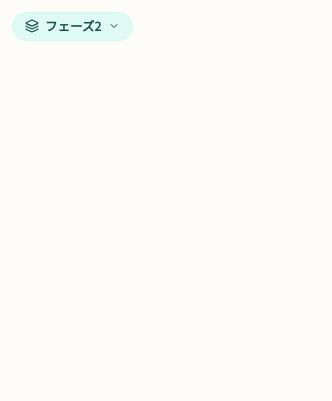
Test case: PhaseSwitcher (GAP-157) › 「確定して次フェーズへ」は明示承認 → freeze API → 現在フェーズ表示へ戻す
Click the button with aria-label "フェーズ切替".
click(72, 26)  # box [12, 12, 133, 41]
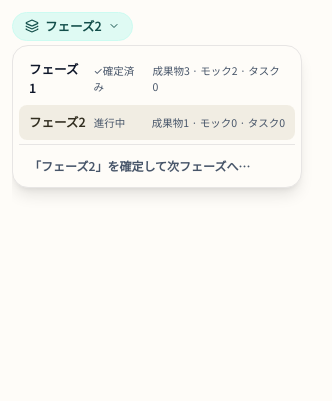
Click the button "「フェーズ2」を確定して次フェーズへ…".
click(157, 166)  # box [19, 151, 295, 181]
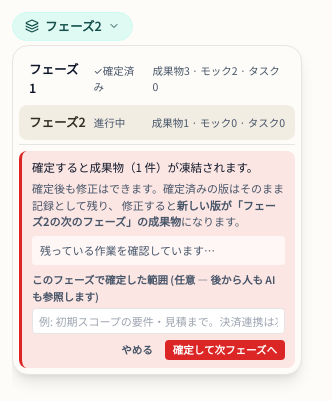
expect the text "確定すると成果物（1 件）が凍結され" is shown: met, box [19, 151, 295, 368]
Click the button "確定して次フェーズへ".
click(225, 350)  # box [165, 340, 285, 360]
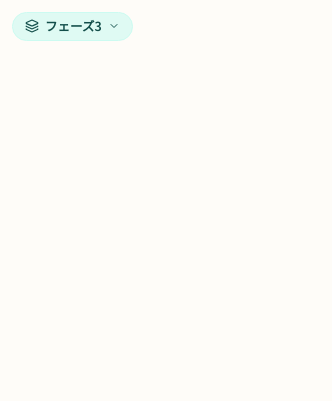
expect the button with aria-label "表示中: フェーズ3" is shown: met, box [12, 12, 133, 41]
